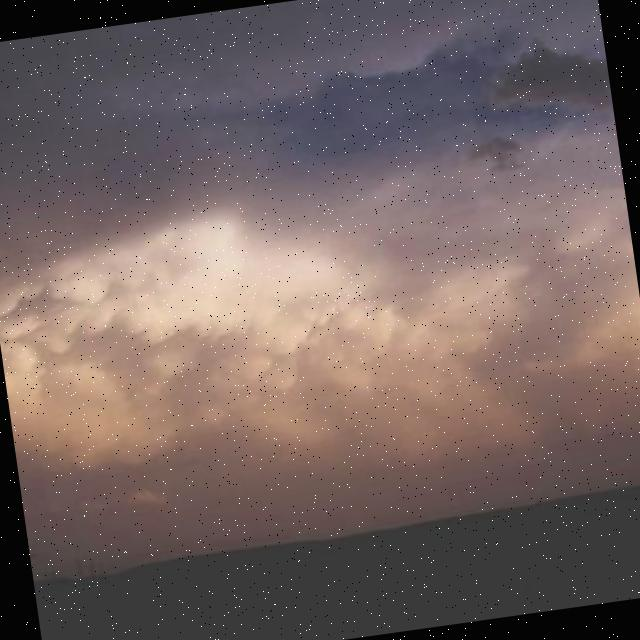Cb: (1, 4, 640, 525)
